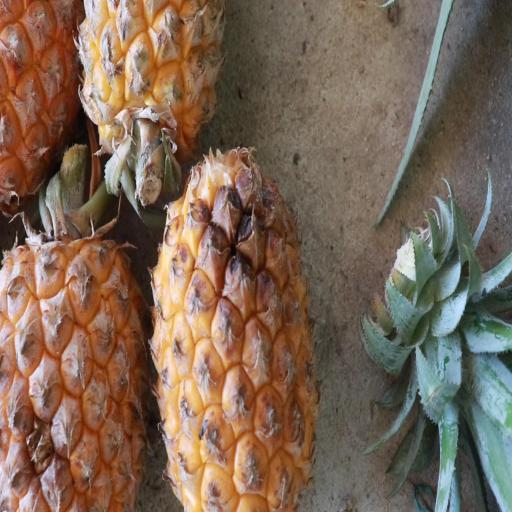Pineapple - v8 v1: (142, 141, 315, 512), (0, 146, 147, 512), (74, 0, 226, 197)
